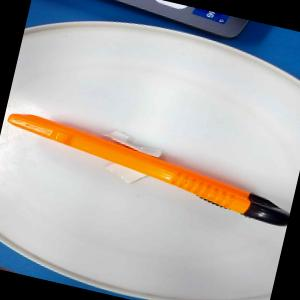estilete: (0, 107, 298, 227)
